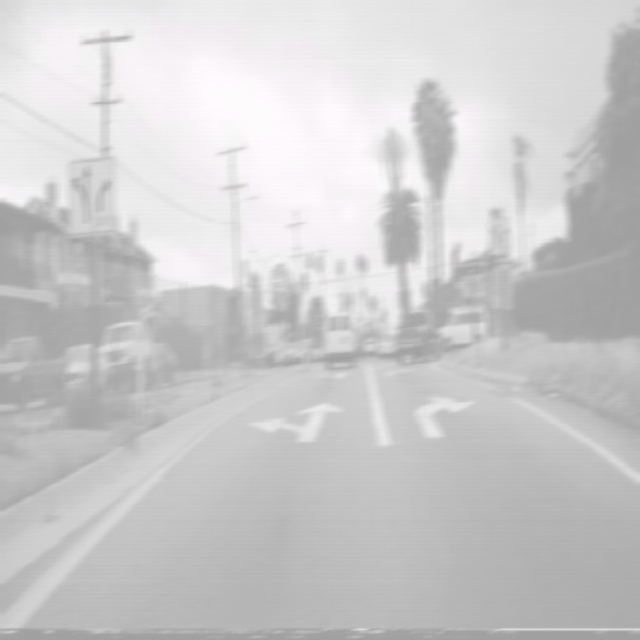stop: (271, 262, 292, 304)
